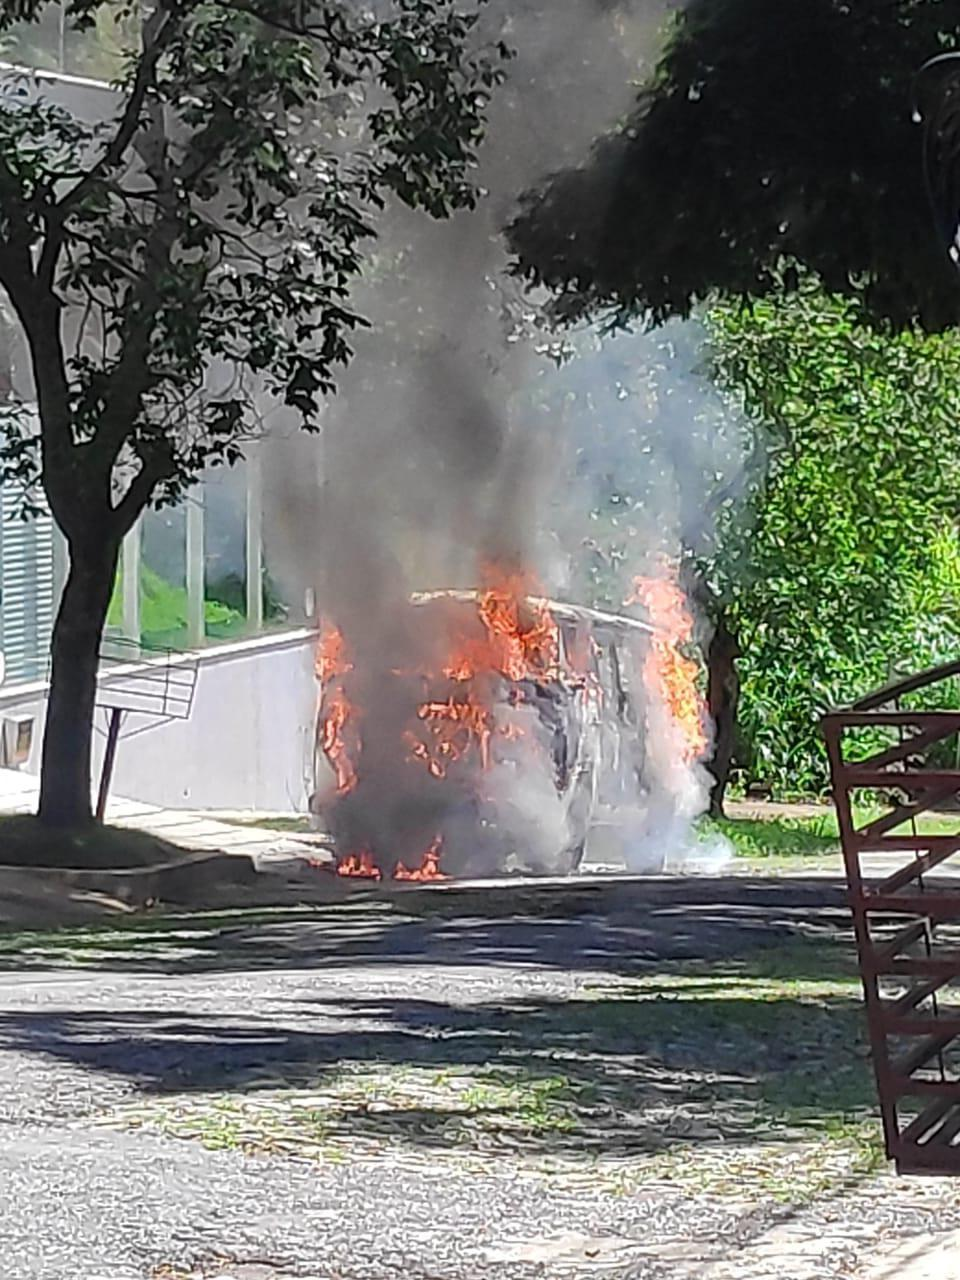Fire: (408, 572, 585, 778), (624, 570, 722, 746), (319, 619, 360, 798), (394, 840, 450, 884), (337, 850, 385, 875)
